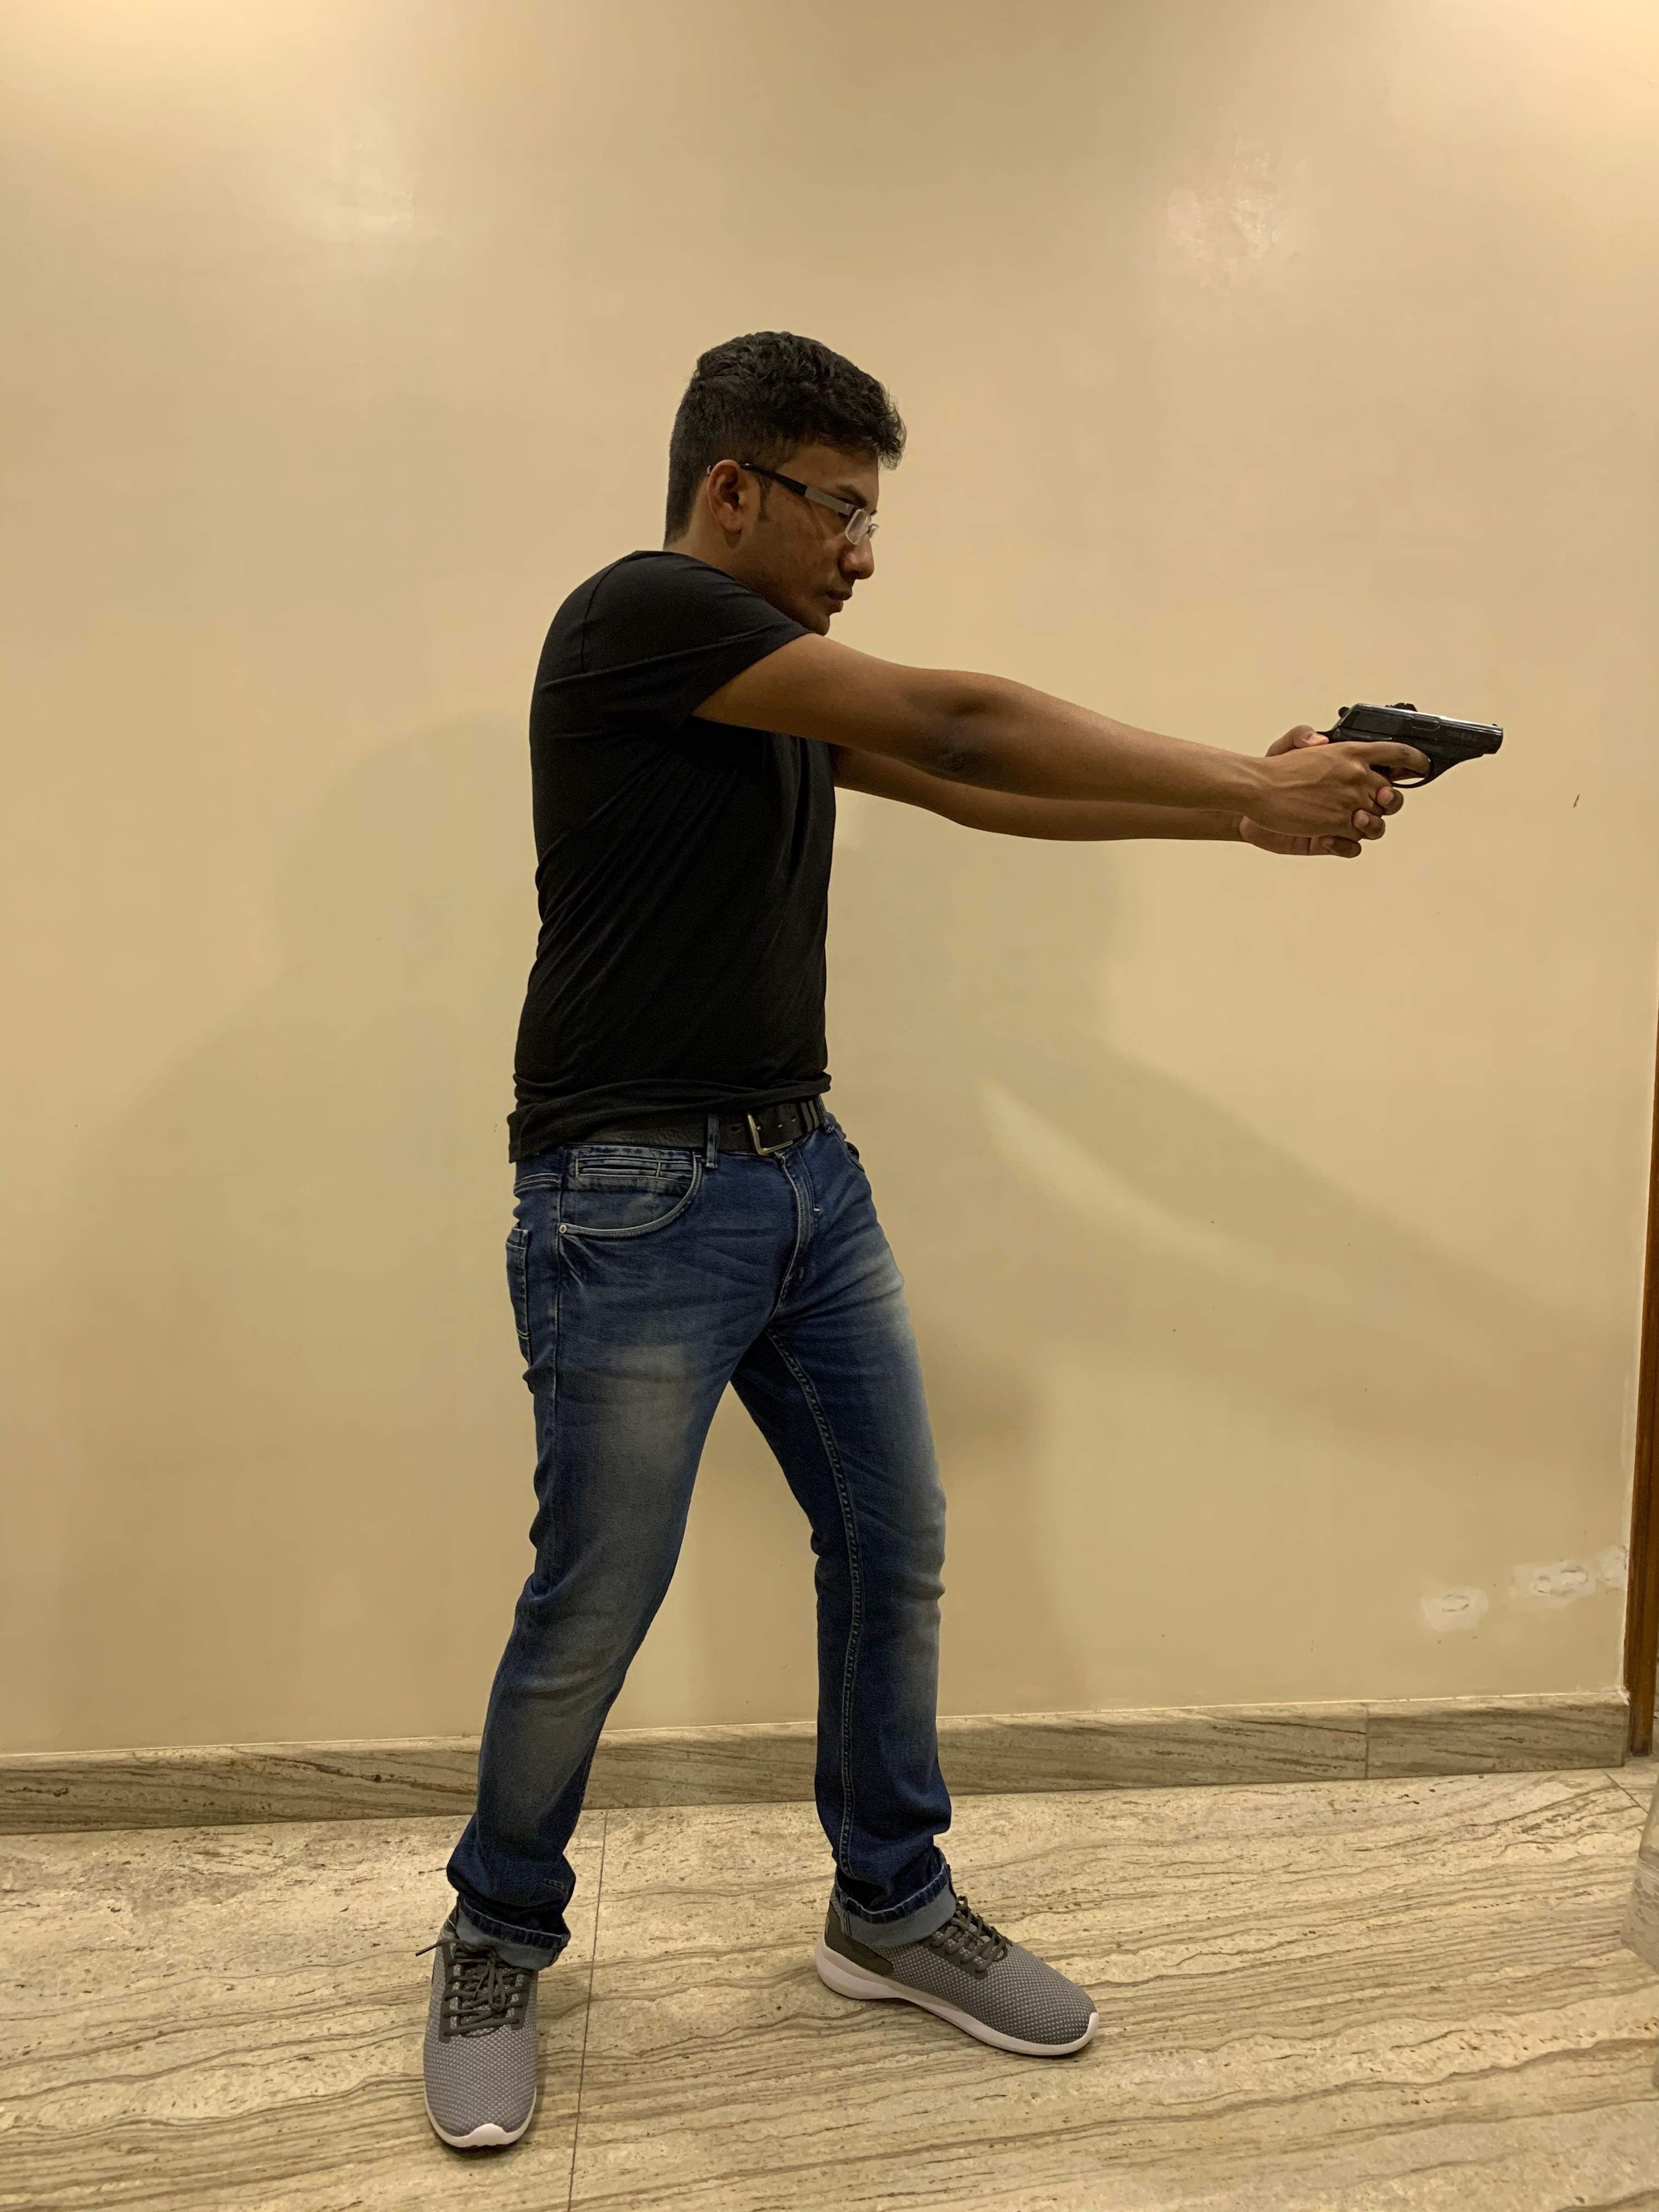gun: (1319, 693, 1507, 794)
